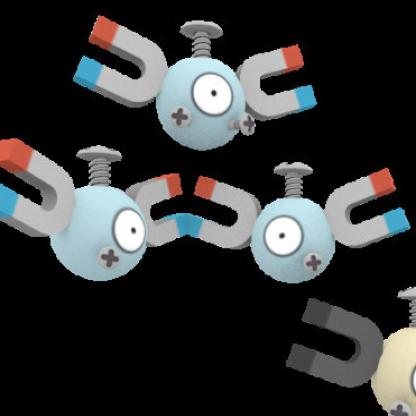Magneton: (1, 6, 416, 291)
